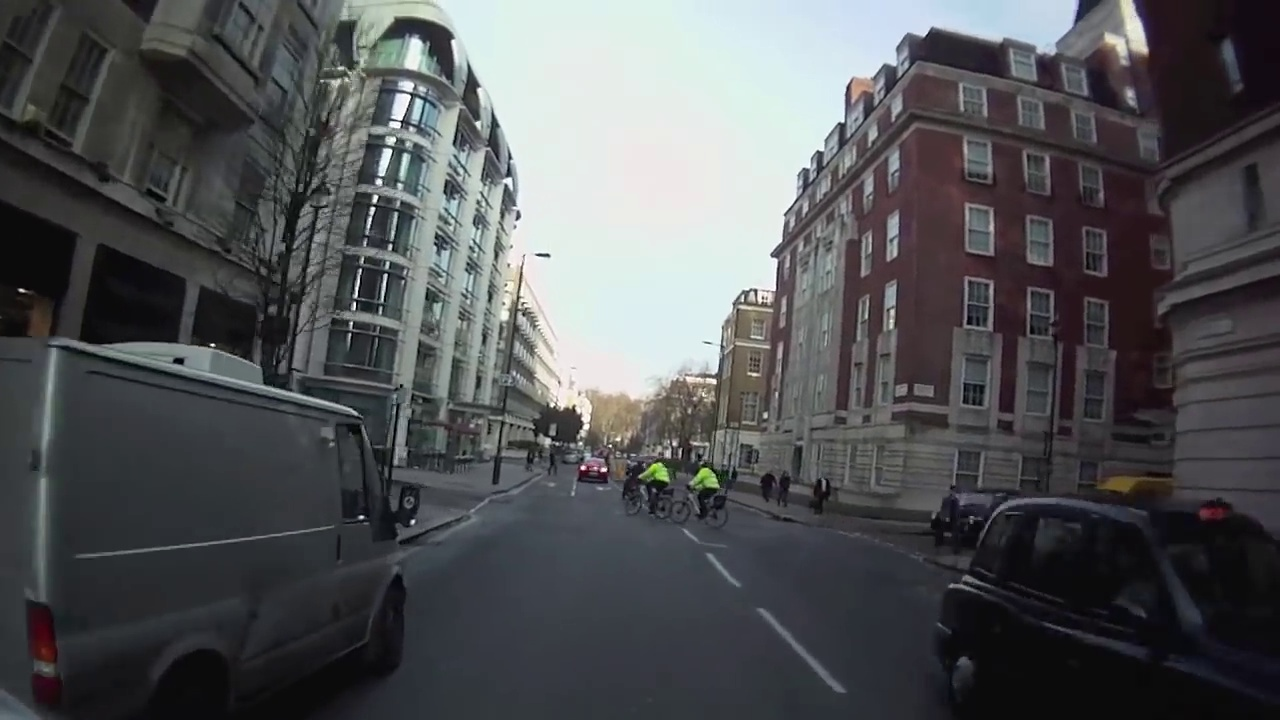cyclist_side: (672, 456, 728, 531), (625, 460, 675, 522)
